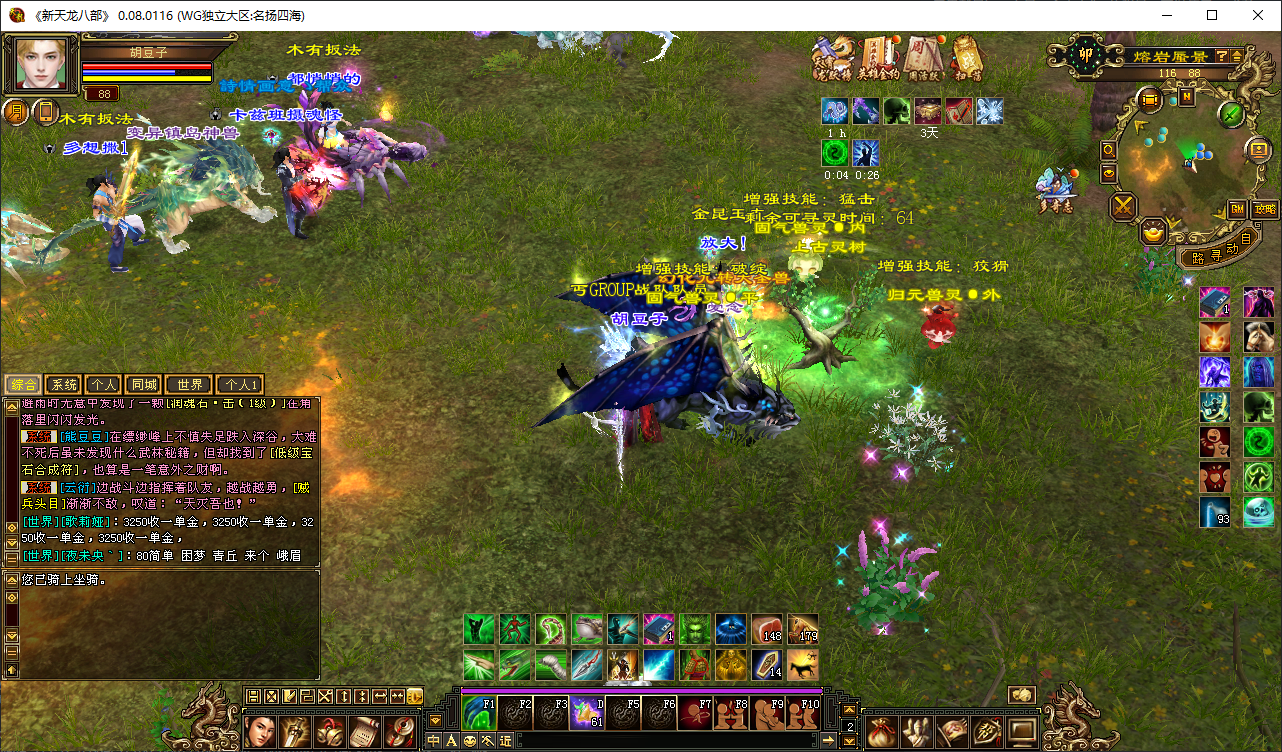cheap: (868, 243, 1015, 379), (728, 180, 887, 301)
